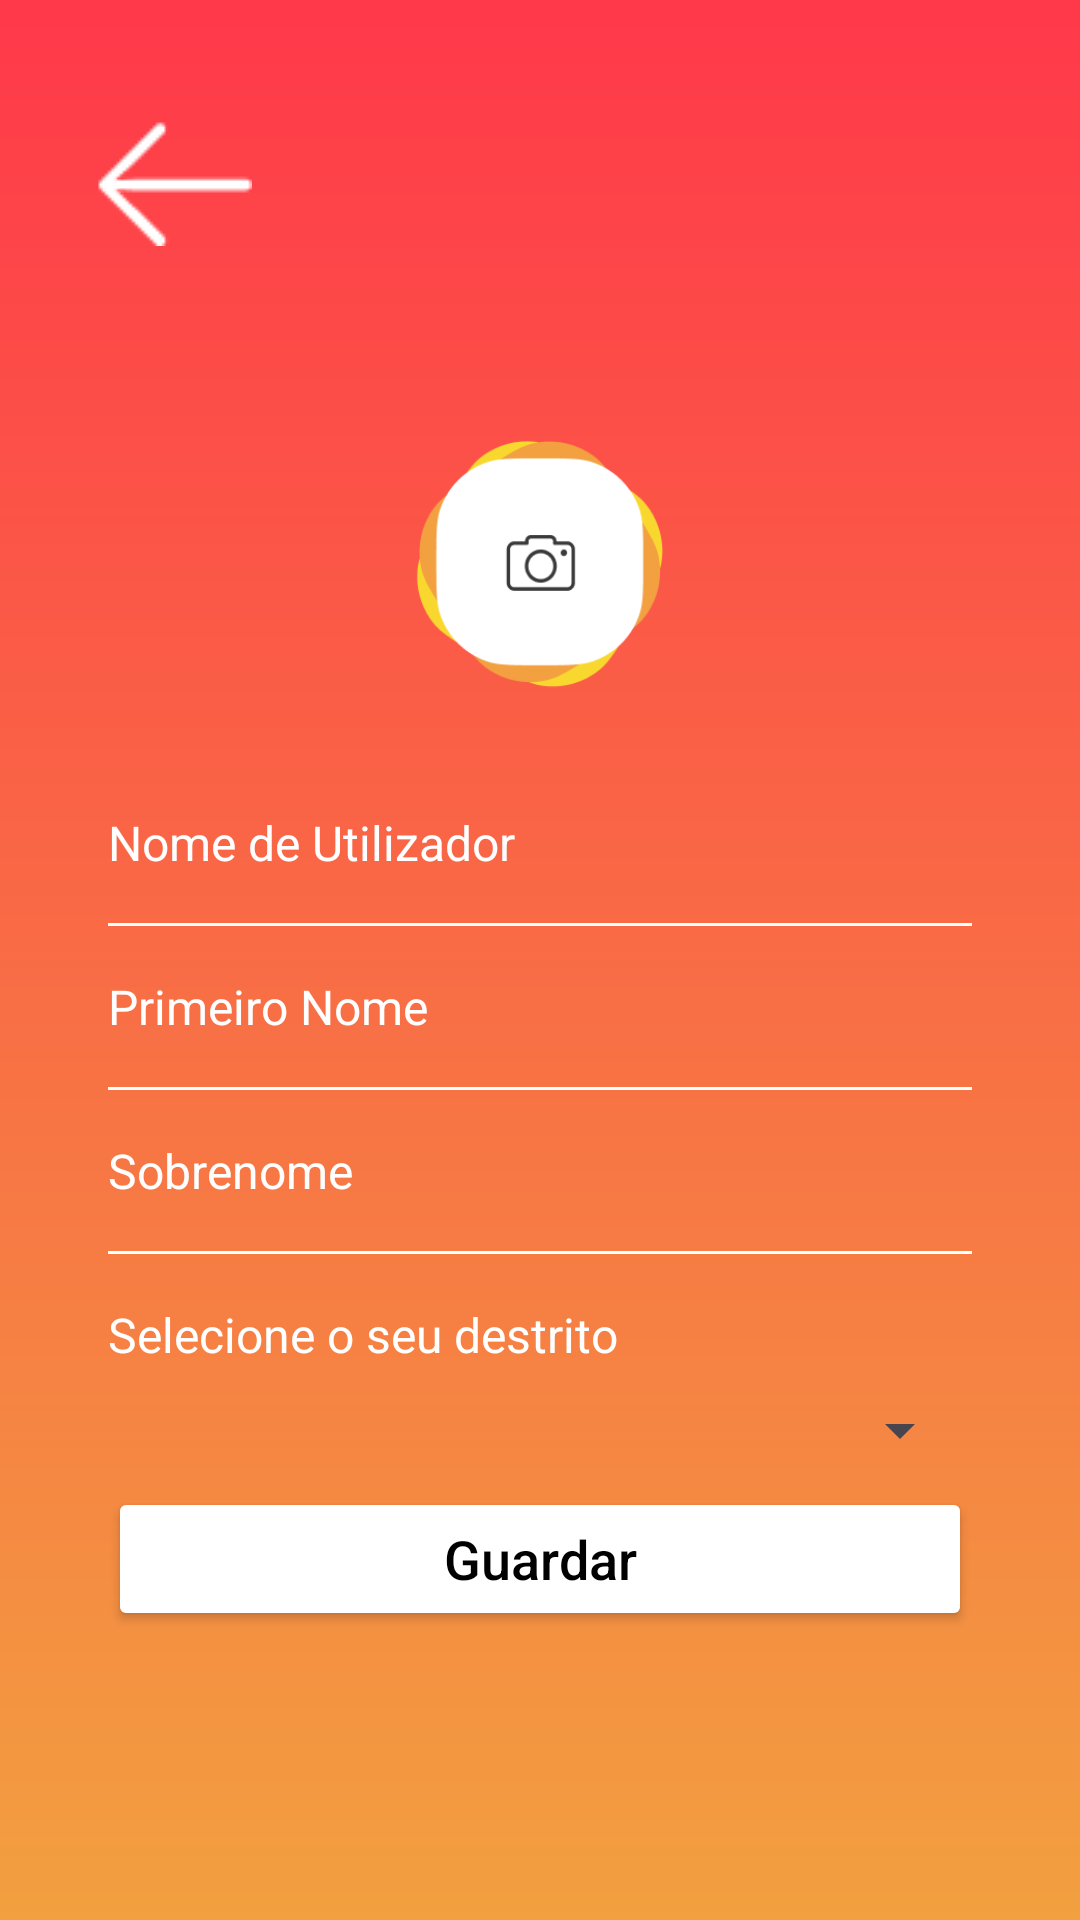

Named icons in this screenshot (1080 × 1920) and their centers, (x,y):
profileimg: (540,564)
setaback: (175,184)
